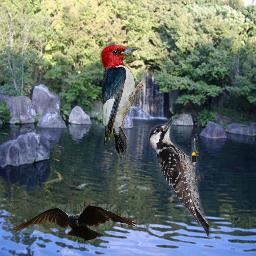Crow: (12, 204, 137, 247)
Woodpecker: (148, 117, 211, 237), (98, 45, 147, 164)
